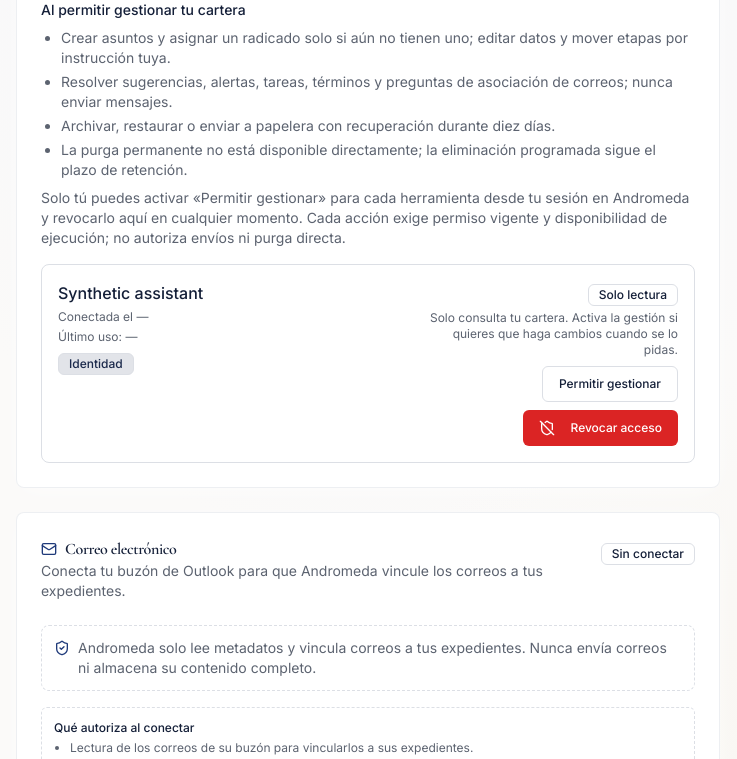
Test: SettingsConnections rendered permission boundaries › failed readback clears saved level and disables changes
(page scrolled)
Check: the text "Solo lectura" is shown, box [588, 284, 678, 306]
Step 1. Click the button "Permitir gestionar" → (610, 384), box [542, 366, 678, 402]
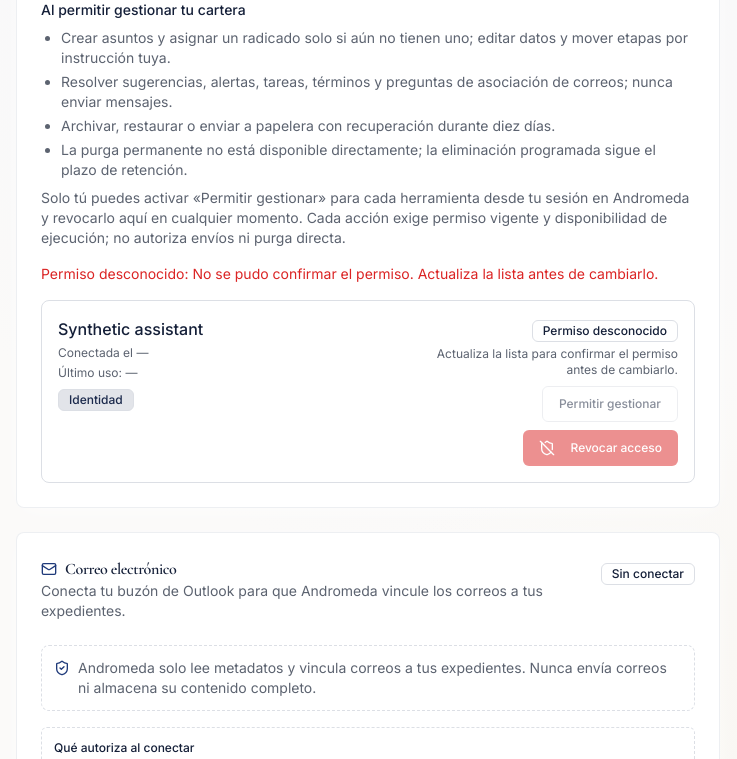
Check: the message is shown, box [41, 264, 695, 284]
Check: the button "Permitir gestionar" is disabled, box [542, 386, 678, 422]
